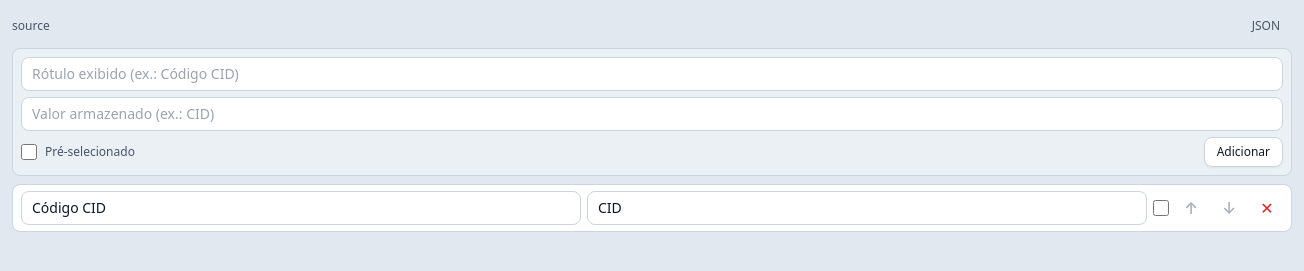
Test: SourceEditor › não adiciona valor duplicado
Type "Outro" into the field named "Novo rótulo" at (652, 74), box x1=21 y1=57 x2=1283 y2=91
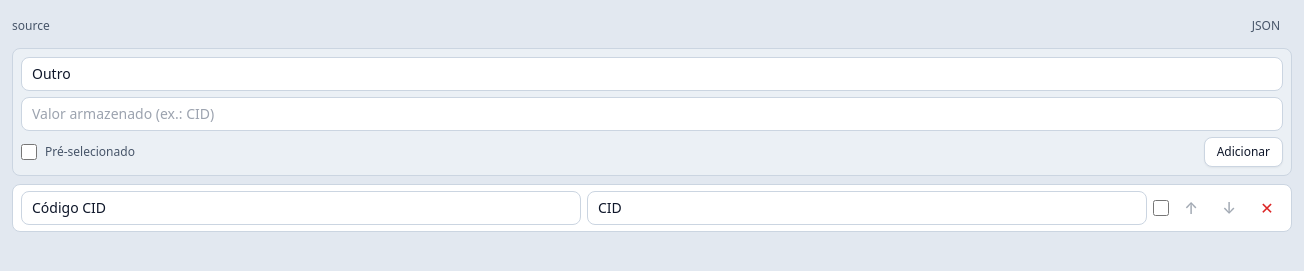
Type "CID" into the field named "Novo valor" at (652, 114), box x1=21 y1=97 x2=1283 y2=131
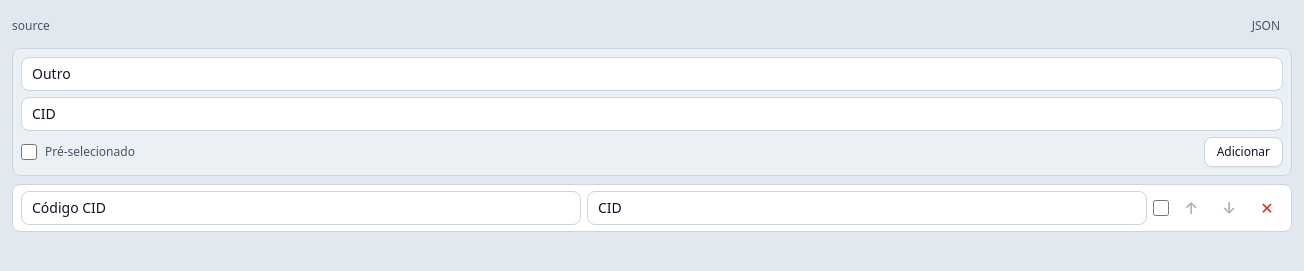
Click the button "Adicionar" at (1243, 152), box x1=1204 y1=137 x2=1283 y2=167
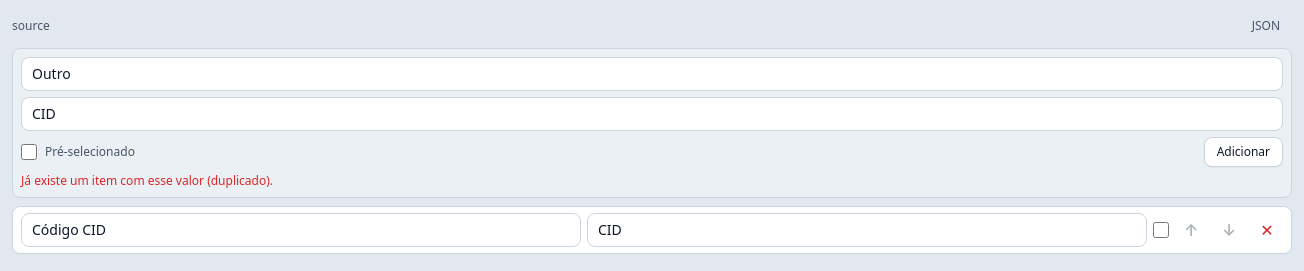
Expected: the text "Já existe um item com esse valor (duplicado)." is shown, x1=21 y1=172 x2=273 y2=189
